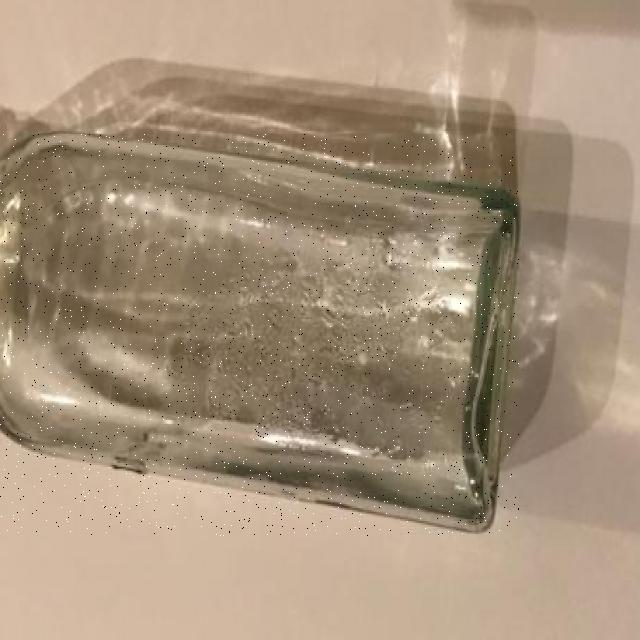glass: (0, 135, 519, 536)
